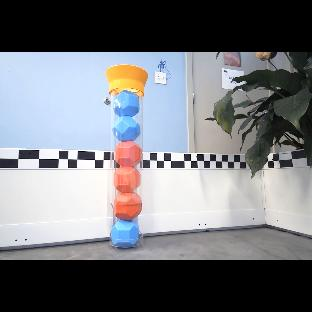V5_BLUE: (110, 220, 139, 246), (112, 115, 141, 141), (113, 90, 140, 115)
V5_RED: (112, 192, 142, 220), (114, 142, 142, 167), (113, 167, 141, 191)
